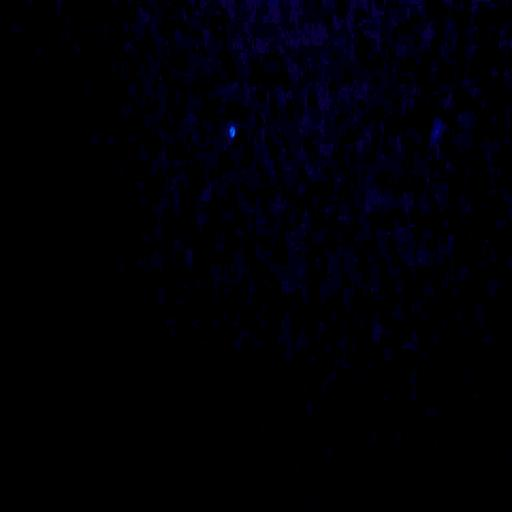object-detection-project: (229, 126, 236, 137)
